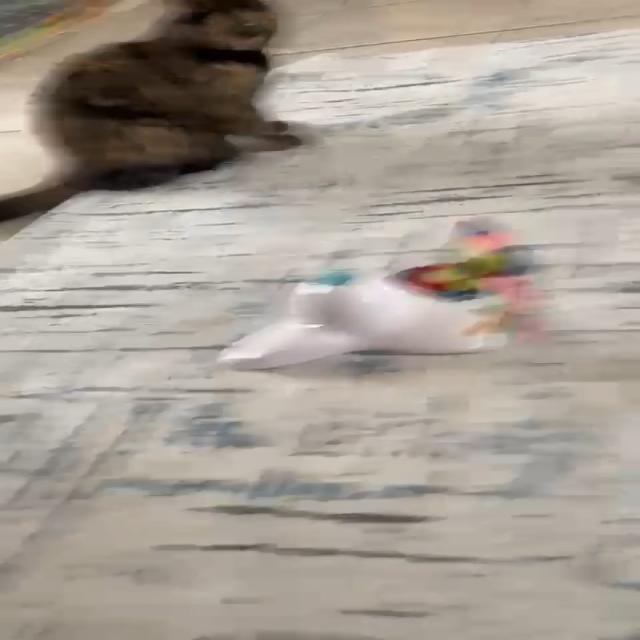authorized: (11, 0, 316, 228)
